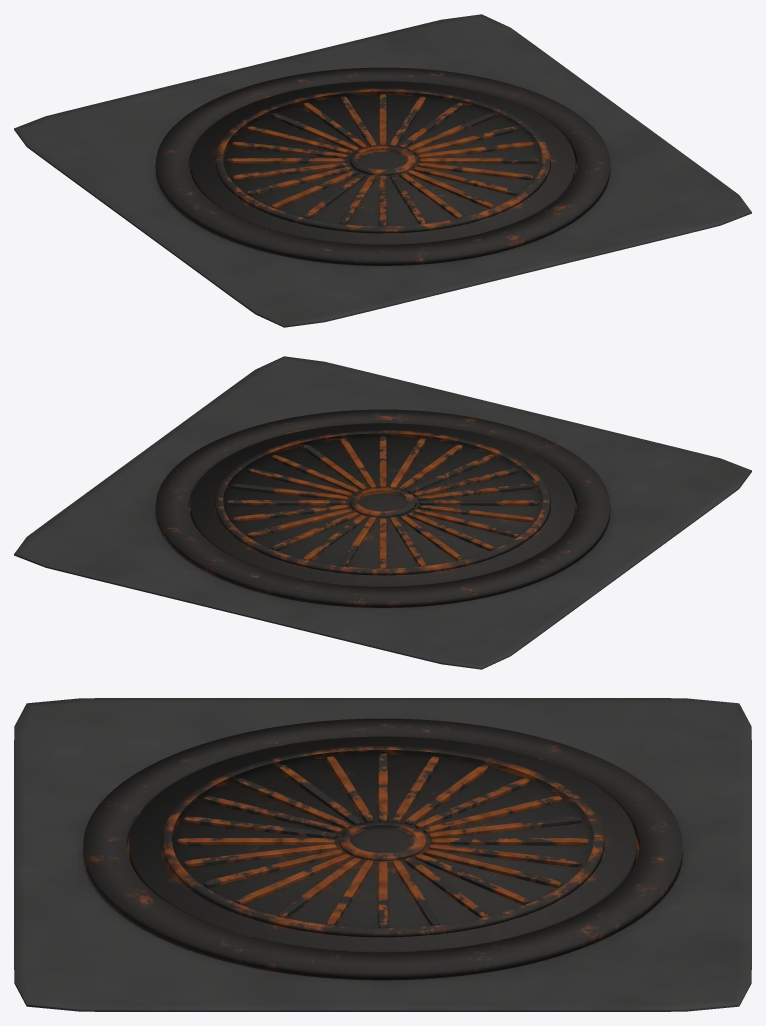
The model's file is round-in-asphalt.glb.
3 renders of one model, top to bottom at view 1: azimuth 30°, elevation 25°; view 2: azimuth 150°, elevation 25°; view 3: azimuth 270°, elevation 25°, orthographic. The views are drawn at different scales.
Parts seen in each view (by area): view 1: cast_iron, asphalt; view 2: cast_iron, asphalt; view 3: cast_iron, asphalt.
Part boxes in pixels (left/top/right/bottom): cast_iron: left=155, top=67, right=610, bottom=265; asphalt: left=14, top=14, right=751, bottom=327; cast_iron: left=155, top=409, right=610, bottom=607; asphalt: left=14, top=356, right=751, bottom=669; cast_iron: left=83, top=718, right=682, bottom=980; asphalt: left=14, top=698, right=751, bottom=1011.
Size of the model in its own units: 0.96 by 0.025 by 0.96.
Materials: 2 (2 with a texture image).
